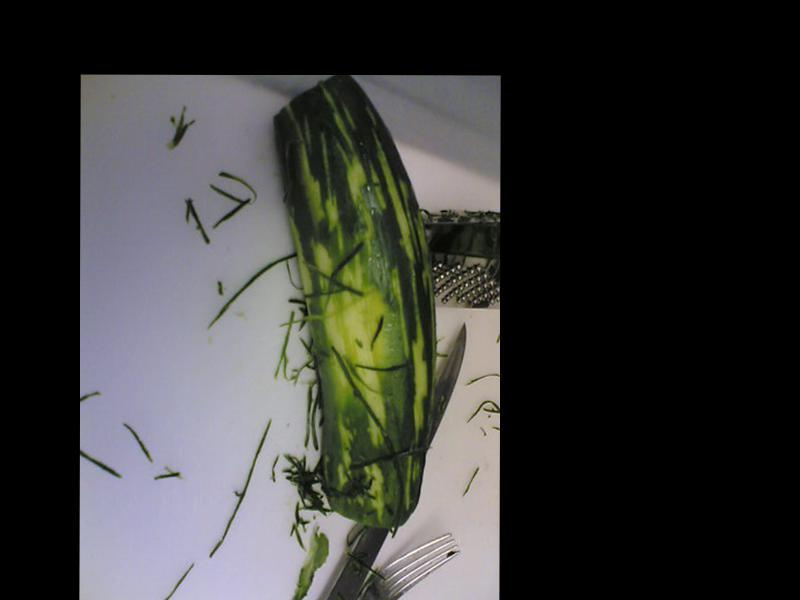Cucumber: (271, 77, 436, 529)
